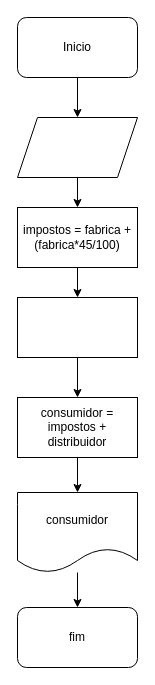
Image size: 155x685. Some labels were removed from this diagram. The centre of each missing label's shape, as x and y in pixels:
distribuidor = impostos*28/100: point (77, 327)
fabrica: point (77, 147)
